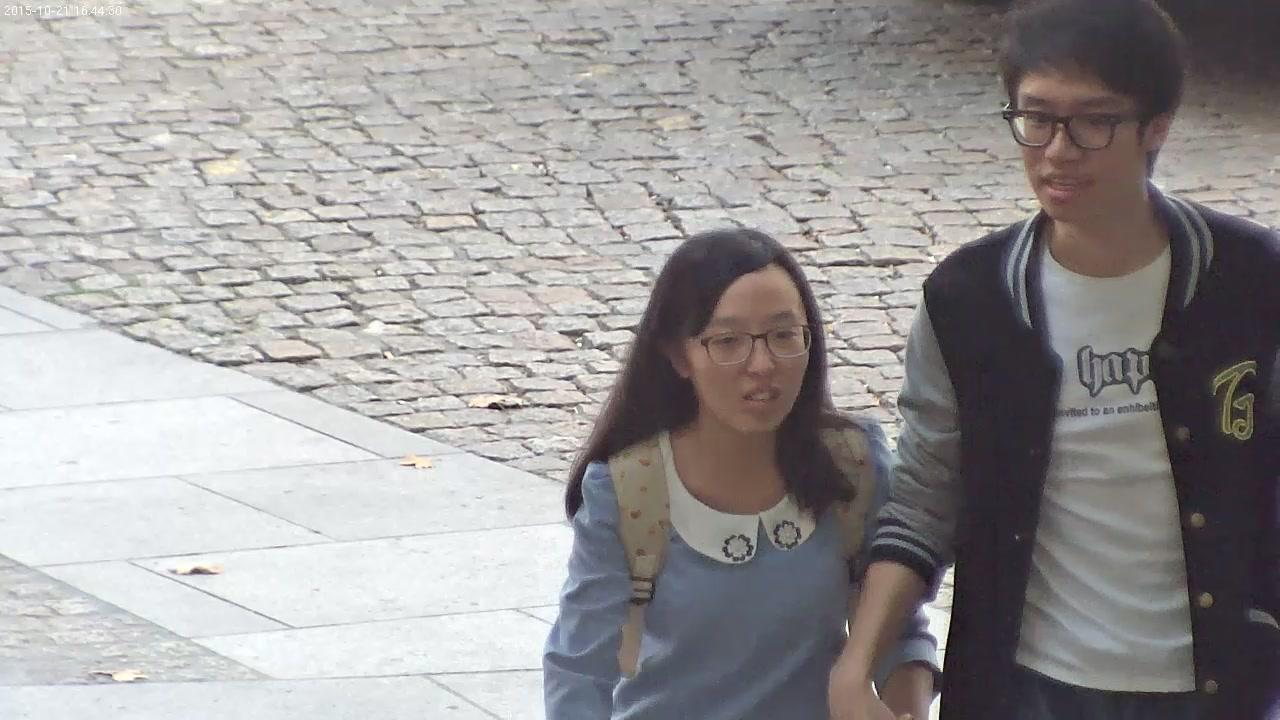person: (826, 0, 1280, 720), (540, 229, 943, 720)
